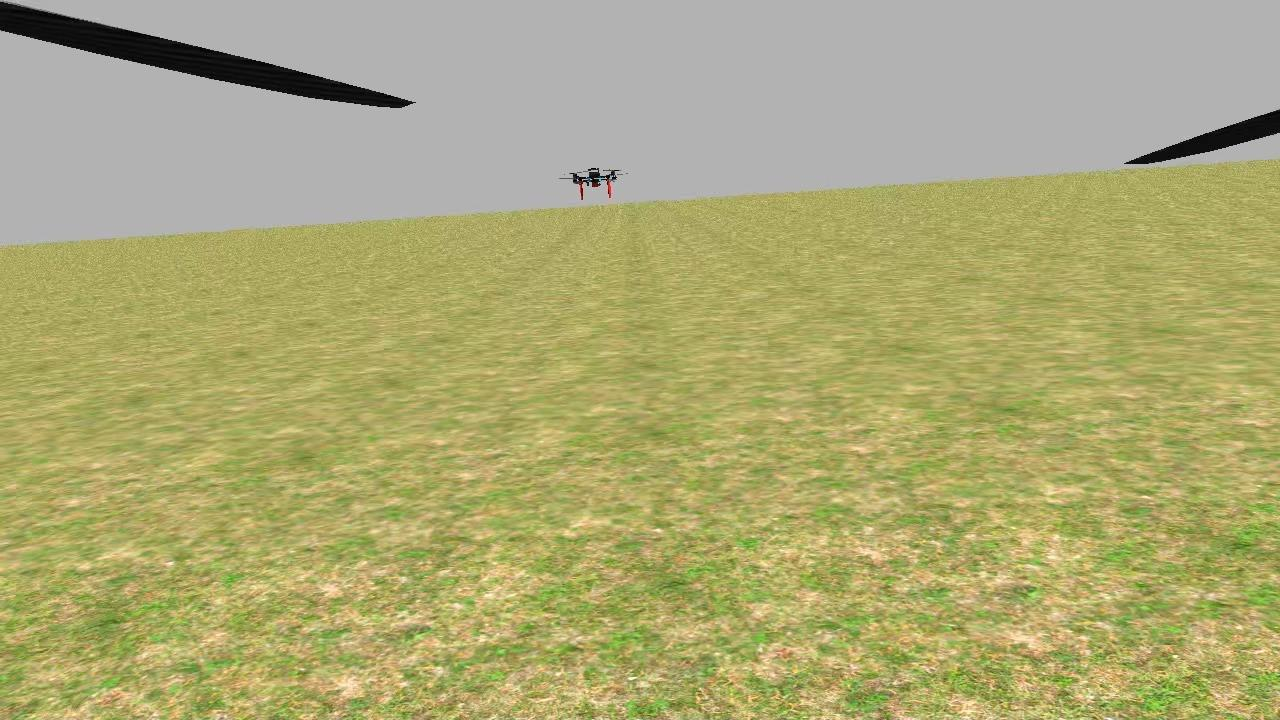UAV: (553, 151, 637, 211)
